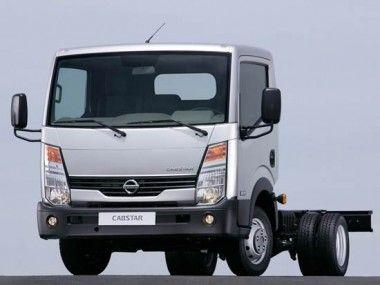truck: (11, 42, 374, 277)
